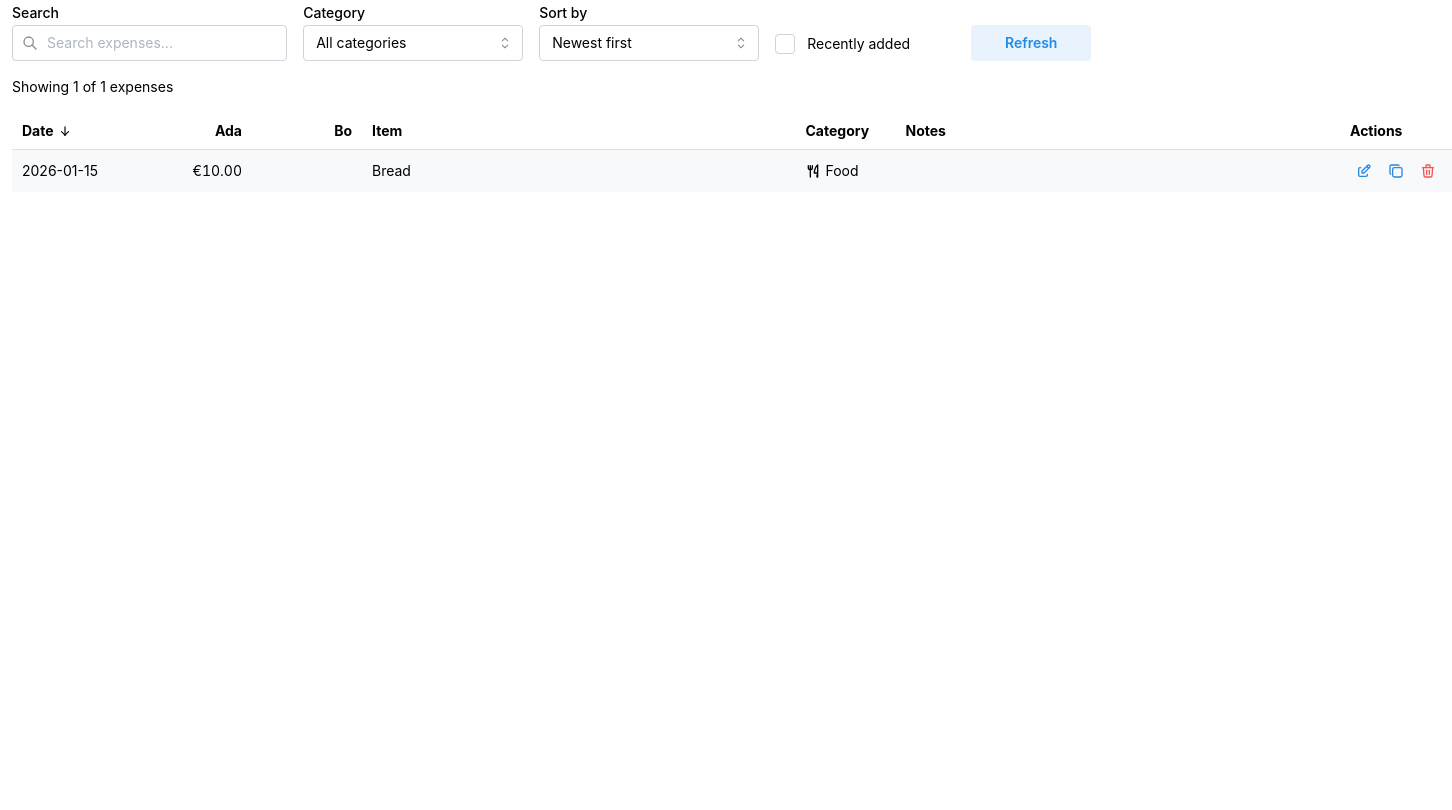
Test: unchanged behaviour › still opens an inline edit form on the row
Click the button titled "Edit".
click(1364, 171)  # box [1350,157,1378,185]
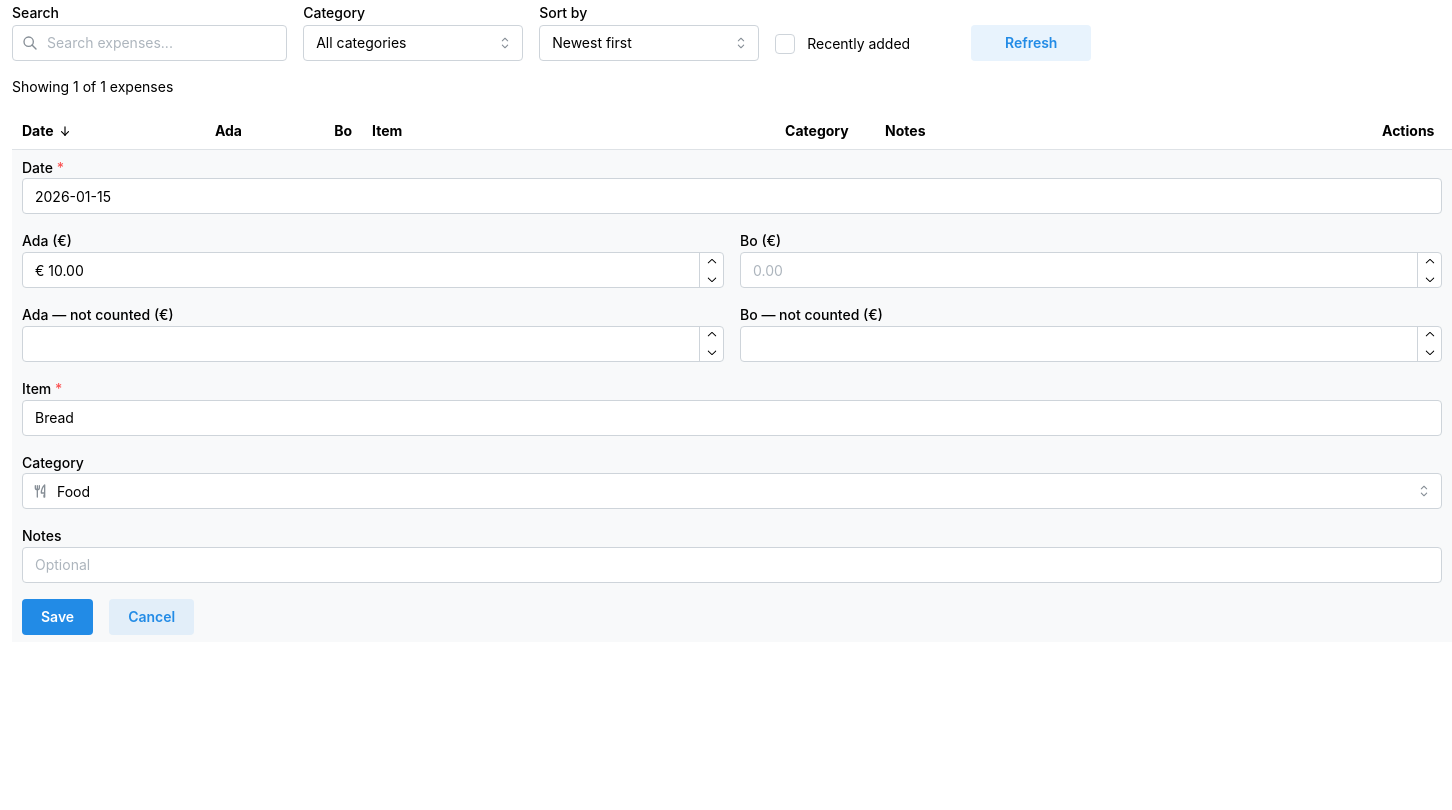
Now the button "Save" is shown, box [22,599,93,635]
